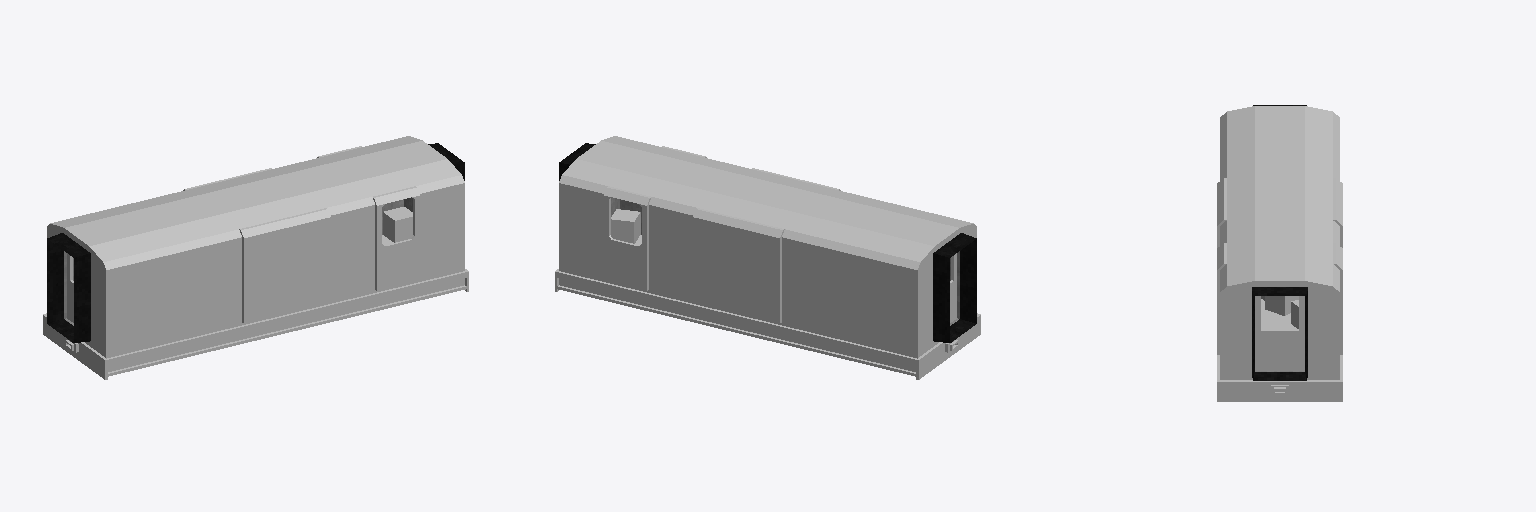
The picture shows the model from 3 angles: view 1: azimuth 30°, elevation 25°; view 2: azimuth 150°, elevation 25°; view 3: azimuth 270°, elevation 25°; orthographic projection.
Parts seen in each view (by area): view 1: FRAME_0_body, DOOR_4_EXTERNAL_TOGGLE_CG_leftbaggagedoor_TL_-1_X, DOOR_3_EXTERNAL_TOGGLE_CG_leftbaggagedoor_TL_1_X, FRAME_corridor.001, DOOR_7_EXTERNAL_TOGGLE_CG_leftdoor_TL_-1_X, FRAME_3, FRAME_1, FRAME_2, FRAME_end1, CARGO_FILL_100; view 2: FRAME_0_body, DOOR_6_EXTERNAL_TOGGLE_CG_rightbaggagedoor_TL_-1_X, DOOR_5_EXTERNAL_TOGGLE_CG_rightbaggagedoor_TL_1_X, FRAME_corridor.001, DOOR_8_EXTERNAL_TOGGLE_CG_rightdoor_TL_-1_X, FRAME_3, FRAME_1, FRAME_2, FRAME_end1, CARGO_FILL_40, FRAME_0_body.001; view 3: FRAME_0_body, FRAME_end2, DOOR_1_CONNECTING_TL_0.625_Z, FRAME_corridor.002.
Boxes of the visible parts, x1=… form: FRAME_0_body: x1=47, y1=136, x2=464, y2=358; DOOR_4_EXTERNAL_TOGGLE_CG_leftbaggagedoor_TL_-1_X: x1=239, y1=219, x2=286, y2=323; DOOR_3_EXTERNAL_TOGGLE_CG_leftbaggagedoor_TL_1_X: x1=283, y1=208, x2=330, y2=312; FRAME_corridor.001: x1=47, y1=233, x2=90, y2=342; DOOR_7_EXTERNAL_TOGGLE_CG_leftdoor_TL_-1_X: x1=373, y1=186, x2=419, y2=290; FRAME_3: x1=337, y1=235, x2=443, y2=319; FRAME_1: x1=130, y1=328, x2=235, y2=370; FRAME_2: x1=234, y1=302, x2=338, y2=344; FRAME_end1: x1=43, y1=313, x2=130, y2=379; CARGO_FILL_100: x1=383, y1=207, x2=412, y2=242; FRAME_0_body: x1=559, y1=136, x2=976, y2=358; DOOR_6_EXTERNAL_TOGGLE_CG_rightbaggagedoor_TL_-1_X: x1=737, y1=219, x2=784, y2=323; DOOR_5_EXTERNAL_TOGGLE_CG_rightbaggagedoor_TL_1_X: x1=693, y1=208, x2=740, y2=312; FRAME_corridor.001: x1=933, y1=233, x2=976, y2=342; DOOR_8_EXTERNAL_TOGGLE_CG_rightdoor_TL_-1_X: x1=604, y1=186, x2=650, y2=290; FRAME_3: x1=580, y1=235, x2=686, y2=319; FRAME_1: x1=788, y1=328, x2=893, y2=370; FRAME_2: x1=685, y1=302, x2=789, y2=344; FRAME_end1: x1=893, y1=313, x2=980, y2=379; CARGO_FILL_40: x1=611, y1=209, x2=640, y2=243; FRAME_0_body.001: x1=611, y1=197, x2=959, y2=325; FRAME_0_body: x1=1220, y1=106, x2=1339, y2=379; FRAME_end2: x1=1217, y1=369, x2=1342, y2=401; DOOR_1_CONNECTING_TL_0.625_Z: x1=1255, y1=296, x2=1304, y2=370; FRAME_corridor.002: x1=1252, y1=287, x2=1307, y2=380.
Bounding box in the file's own units: 9 × 2.75 × 2.5.
7 materials, 2 textured.